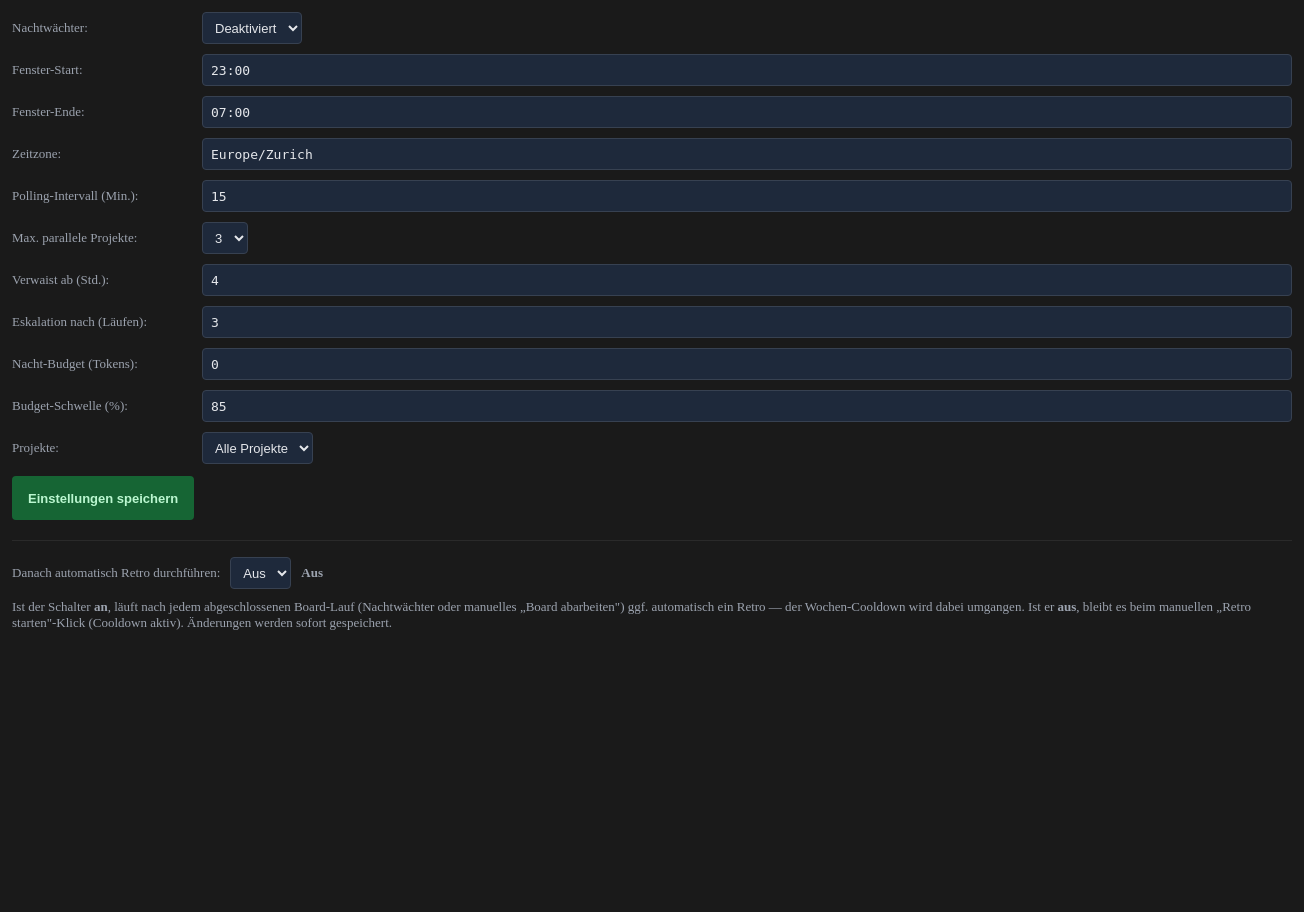
Test case: NightWatchSettings — AC17: PUT mit geänderten Werten › Speichern-Button ruft PUT mit geänderten Werten auf
The image size is (1304, 912).
Select "Aktiviert" in the dropdown labelled "Nachtwächter:" at (252, 28), box [202,12,302,44]
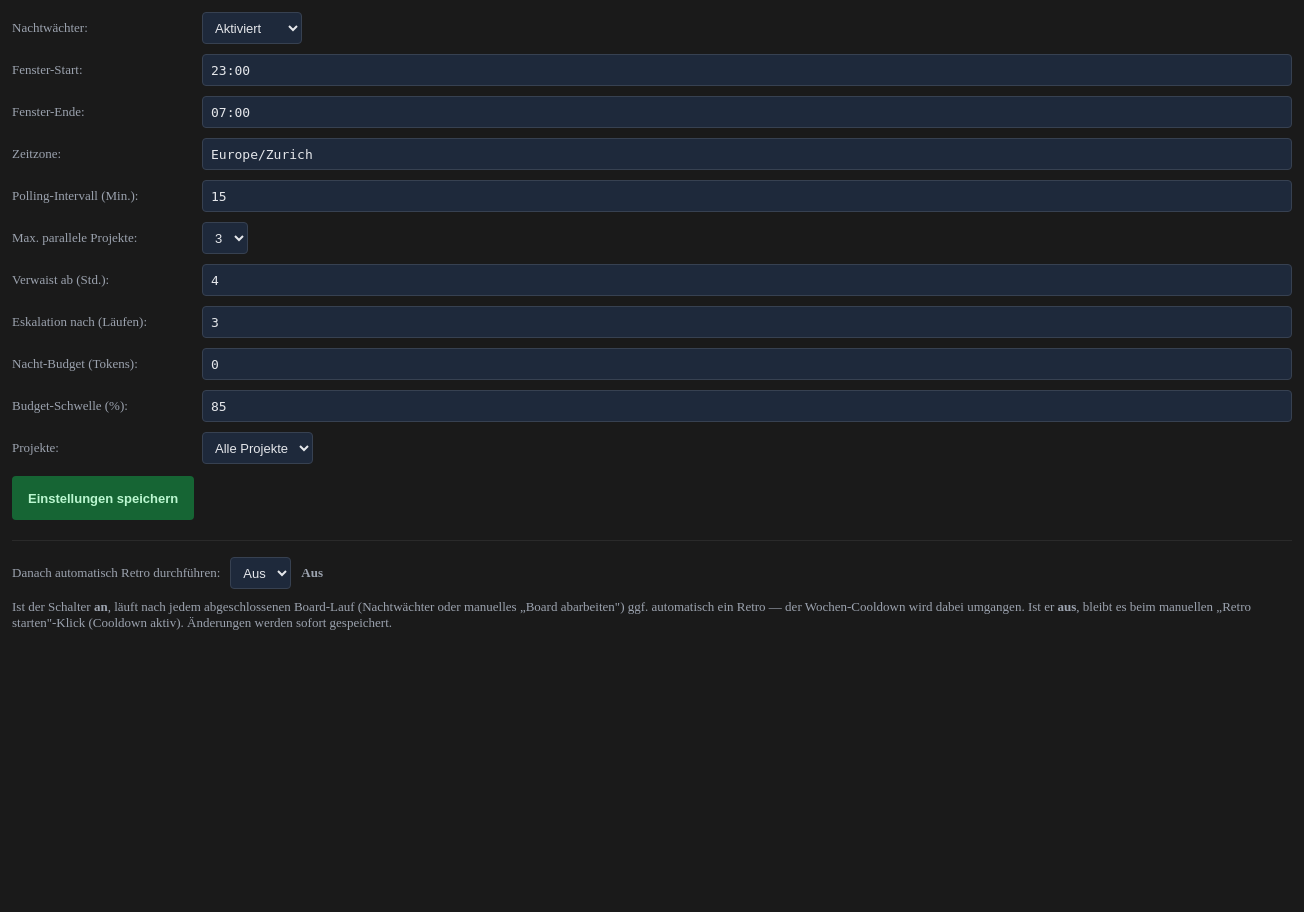
Type "22:30" into the field labelled "Fenster-Start:" at (747, 70), box [202,54,1292,86]
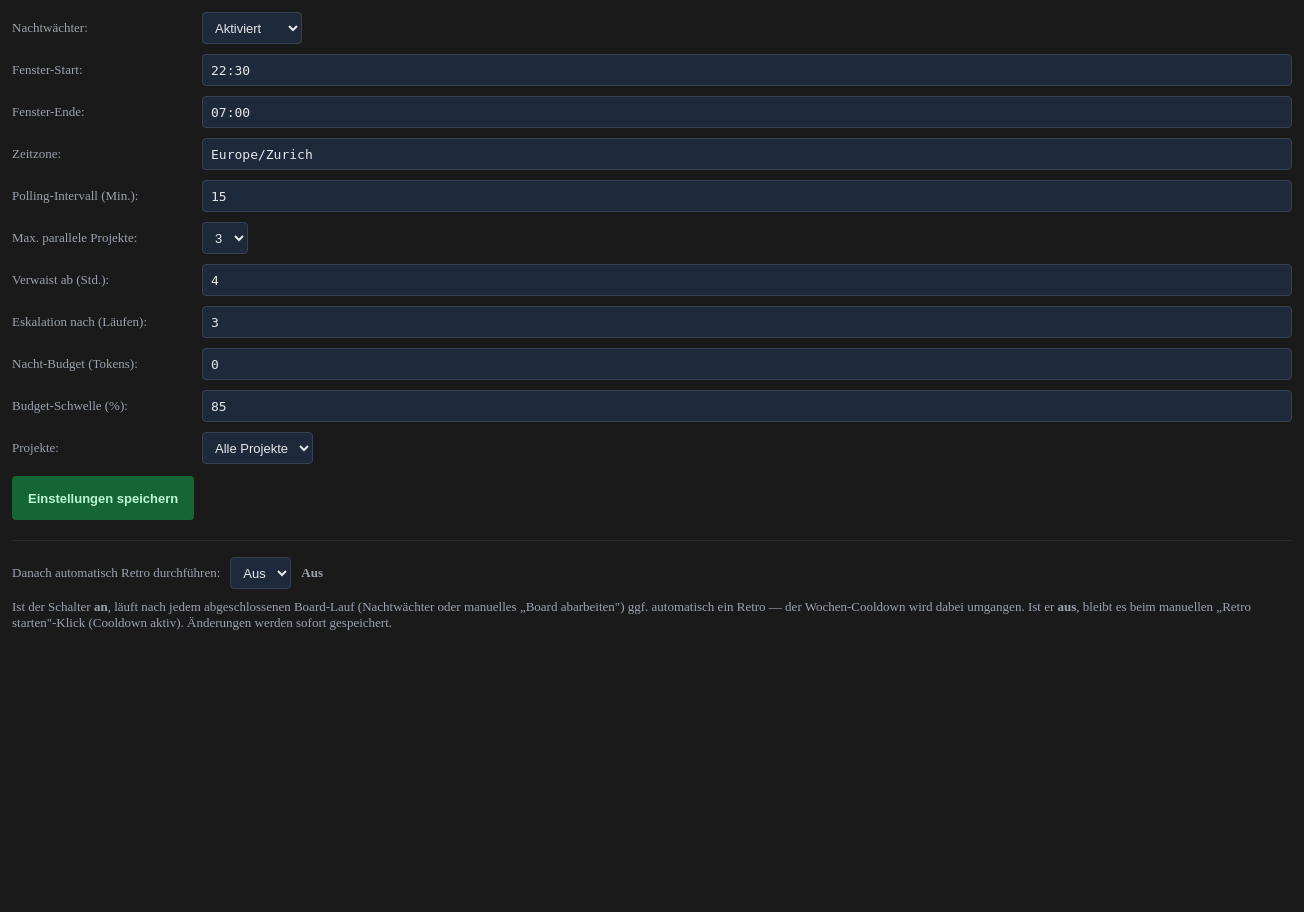
Select "2" in the dropdown labelled "Max. parallele Projekte:" at (225, 238), box [202,222,248,254]
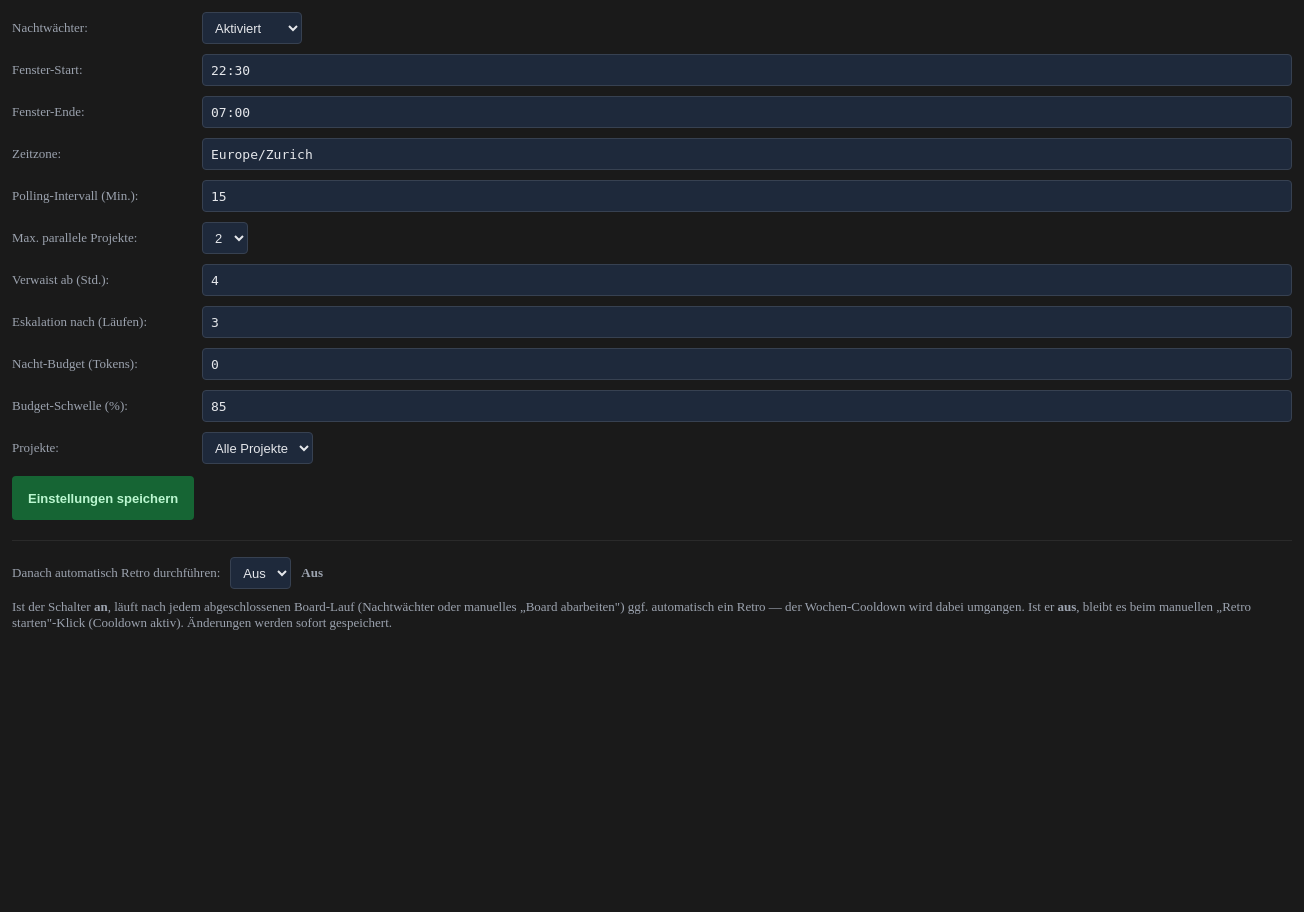
Click the button "Einstellungen speichern" at (103, 498), box [12,476,194,520]
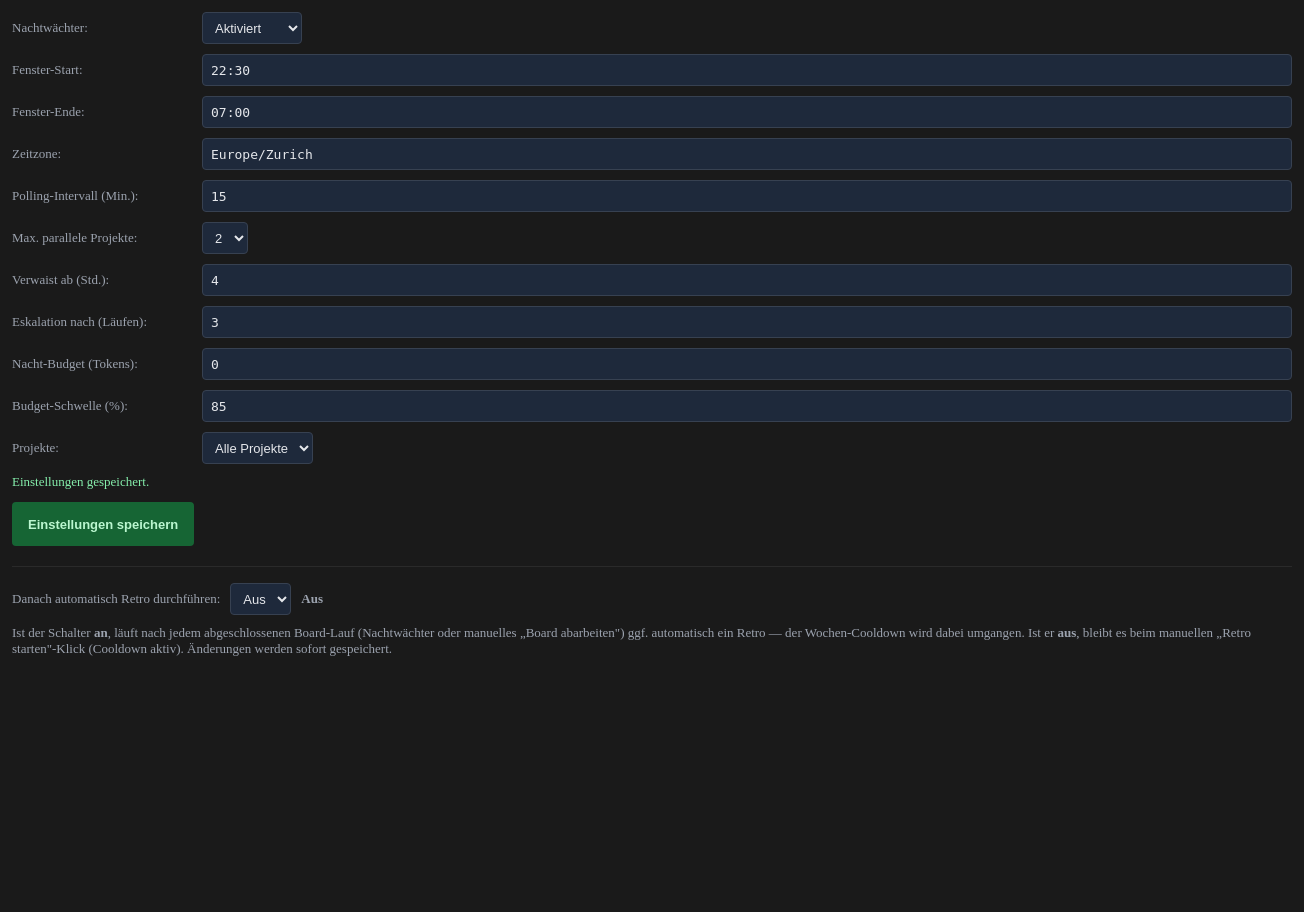
Expected: the message shows "gespeichert", [12,474,149,489]
